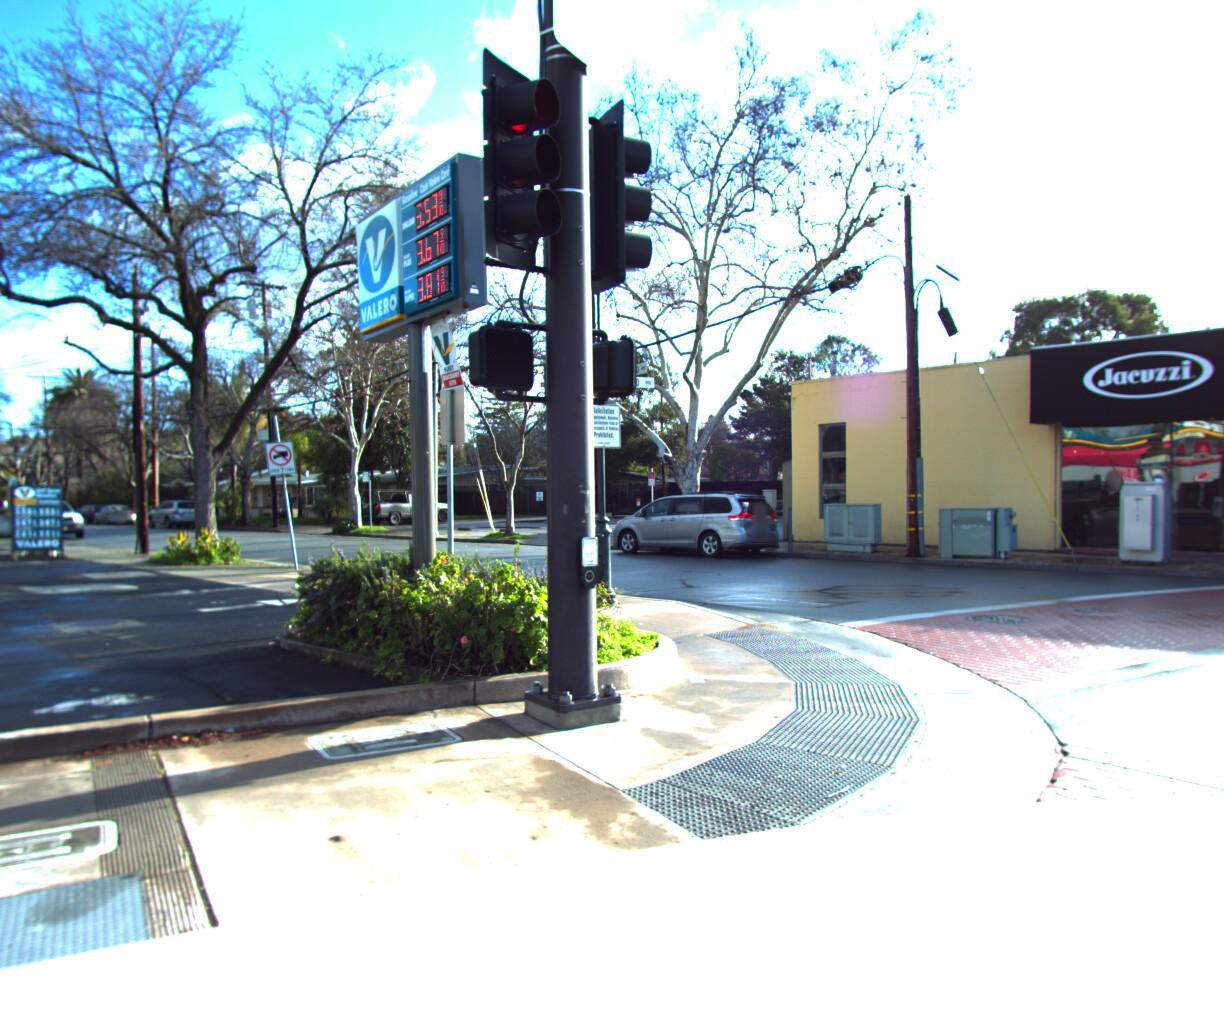car: (605, 486, 793, 559), (353, 486, 458, 529), (8, 498, 97, 544), (146, 494, 213, 529), (91, 503, 140, 527)
